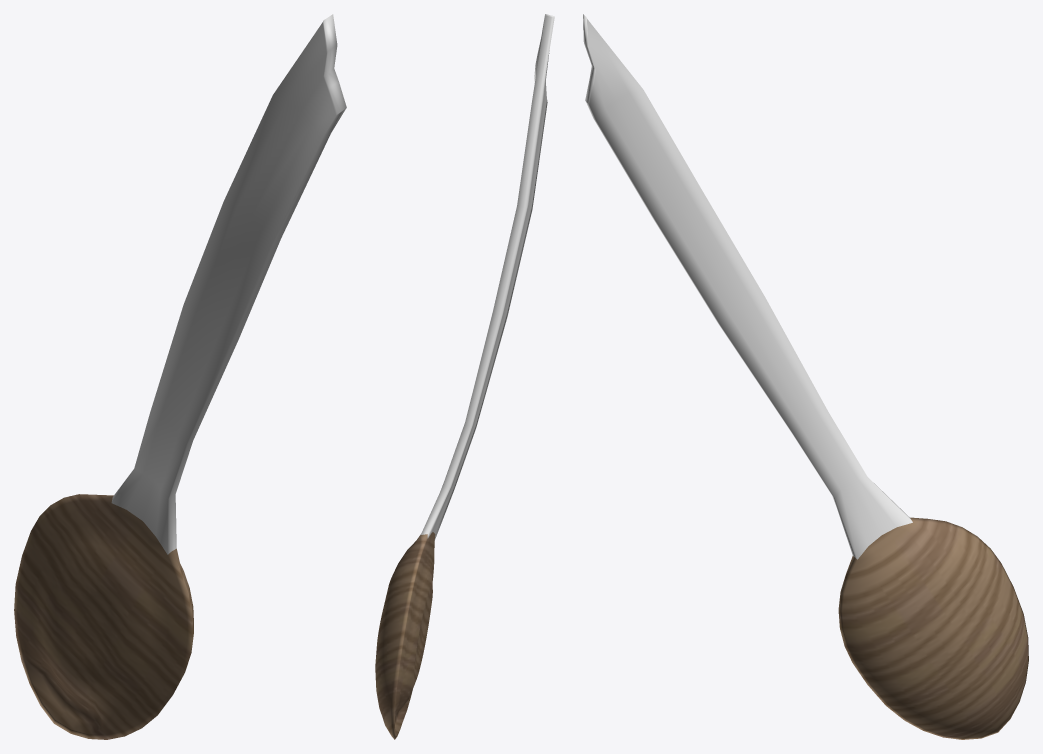
File: spoon.fbx
The picture shows the model from 3 angles, left to right: view 1: azimuth 30°, elevation 25°; view 2: azimuth 150°, elevation 25°; view 3: azimuth 270°, elevation 25°; orthographic projection. The views are drawn at different scales.
Parts seen in each view (by area): view 1: spoon; view 2: spoon; view 3: spoon.
Part boxes in pixels (<box>): spoon: <box>14,14,346,739</box>; spoon: <box>375,14,554,739</box>; spoon: <box>583,14,1028,739</box>.
Bounding box in the file's own units: 15.76 × 161 × 89.34.
Materials: 1 (1 with a texture image).
